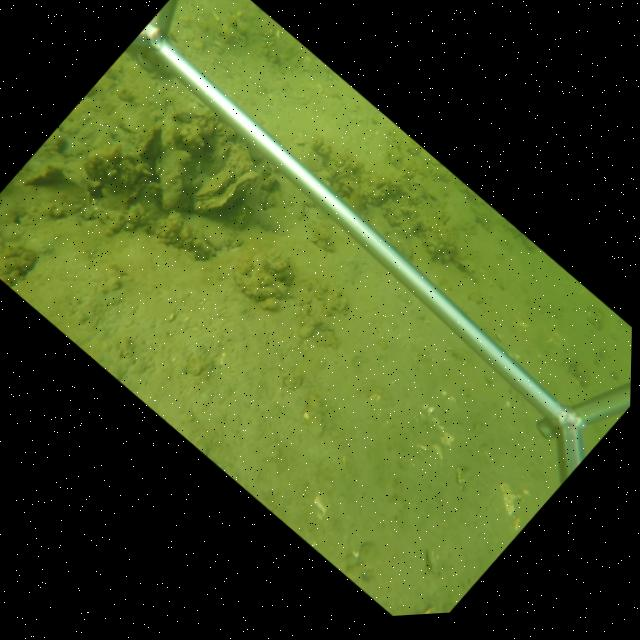Oyster-Closed: (191, 169, 262, 214), (190, 163, 233, 198)
Oyster-Indeterminate: (153, 149, 190, 212)
